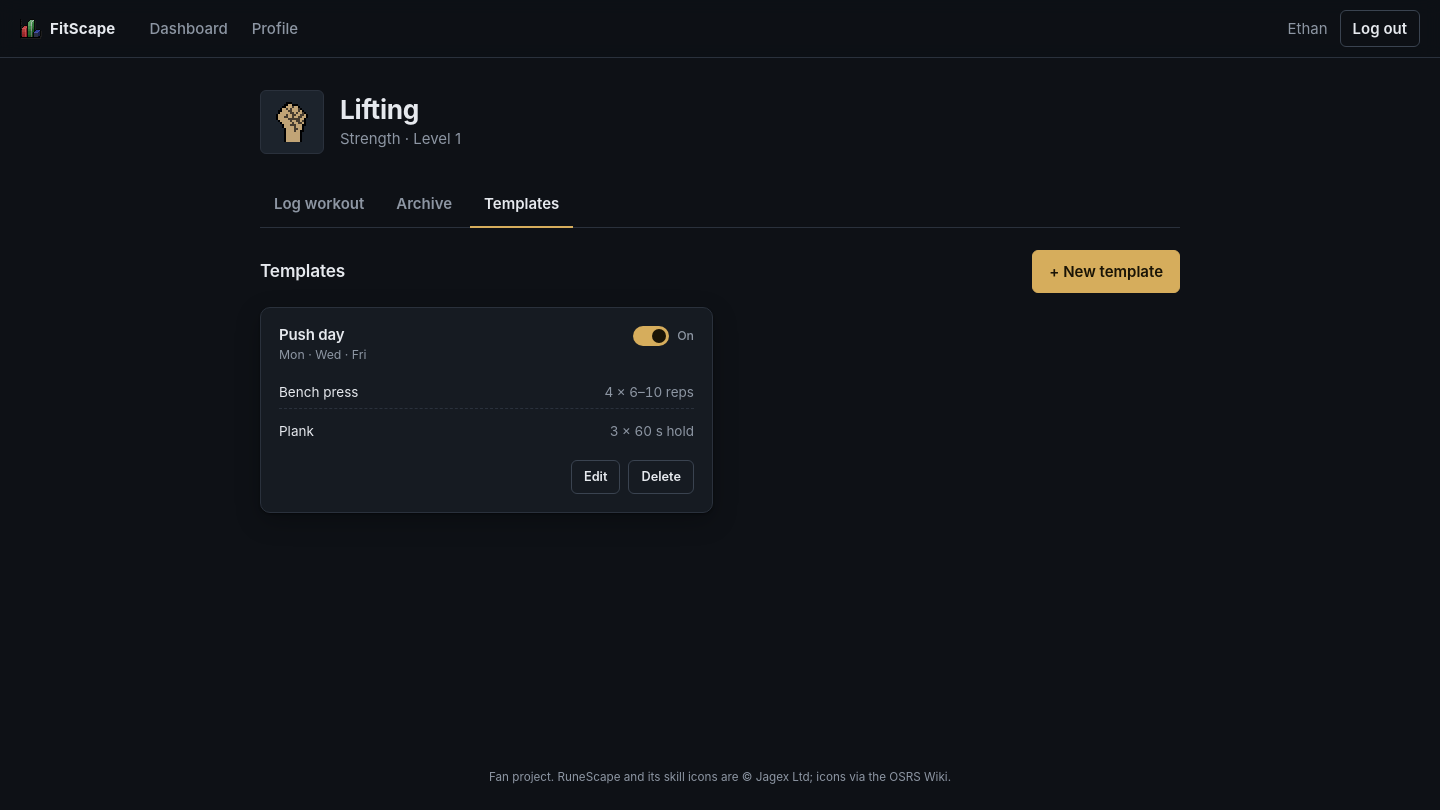
Test case: Lifting templates › switches a template off
Click the switch named "Push day enabled" at (651, 336), box x1=633 y1=326 x2=669 y2=346
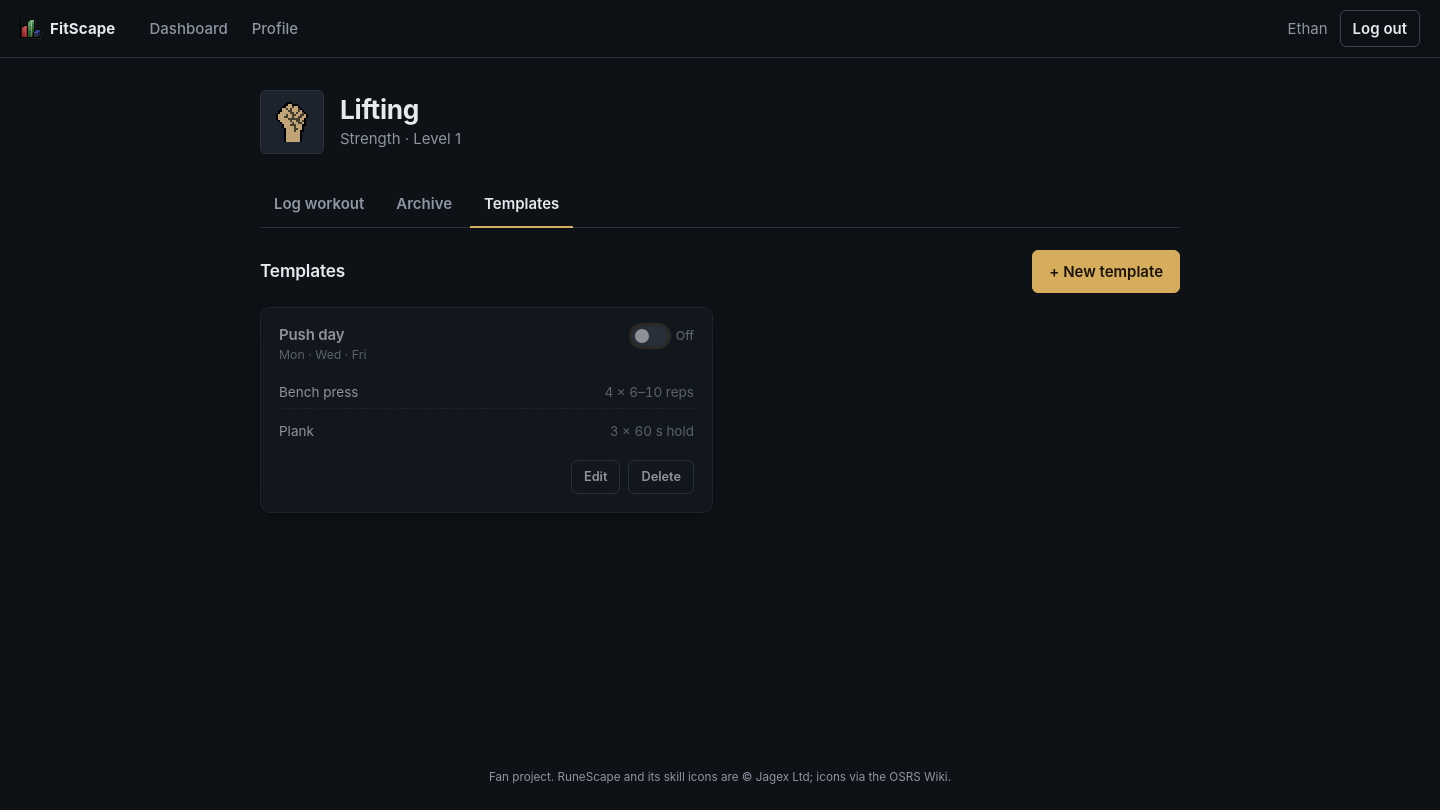
Expected: the text "Off" is shown, x1=676 y1=326 x2=694 y2=345
